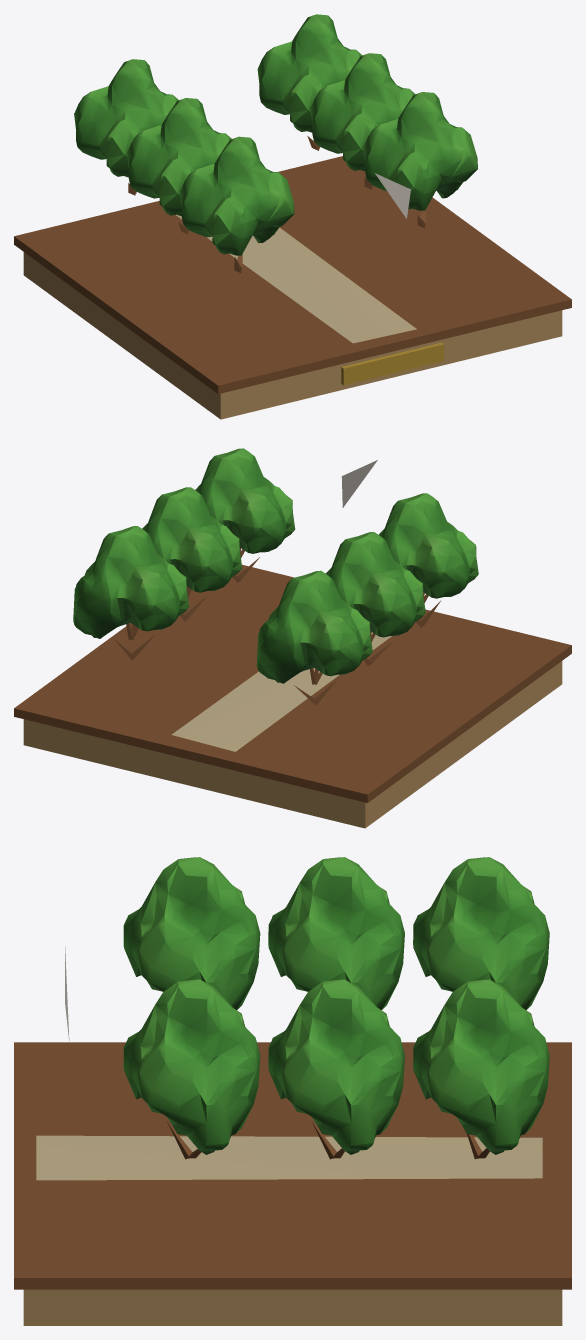
The model's file is orchard_walk_souvenir.glb.
3 renders of one model, top to bottom at view 1: azimuth 30°, elevation 25°; view 2: azimuth 150°, elevation 25°; view 3: azimuth 270°, elevation 25°, orthographic. The views are drawn at different scales.
Parts seen in each view (by area): view 1: decor-orchard_walk_souvenir; view 2: decor-orchard_walk_souvenir; view 3: decor-orchard_walk_souvenir.
Boxes of the visible parts, box(x1,y1,x2,y2) form: decor-orchard_walk_souvenir: box(14, 14, 571, 419); decor-orchard_walk_souvenir: box(14, 448, 571, 828); decor-orchard_walk_souvenir: box(14, 857, 571, 1325).
Size of the model in its own units: 1.76 by 1.02 by 1.76.
